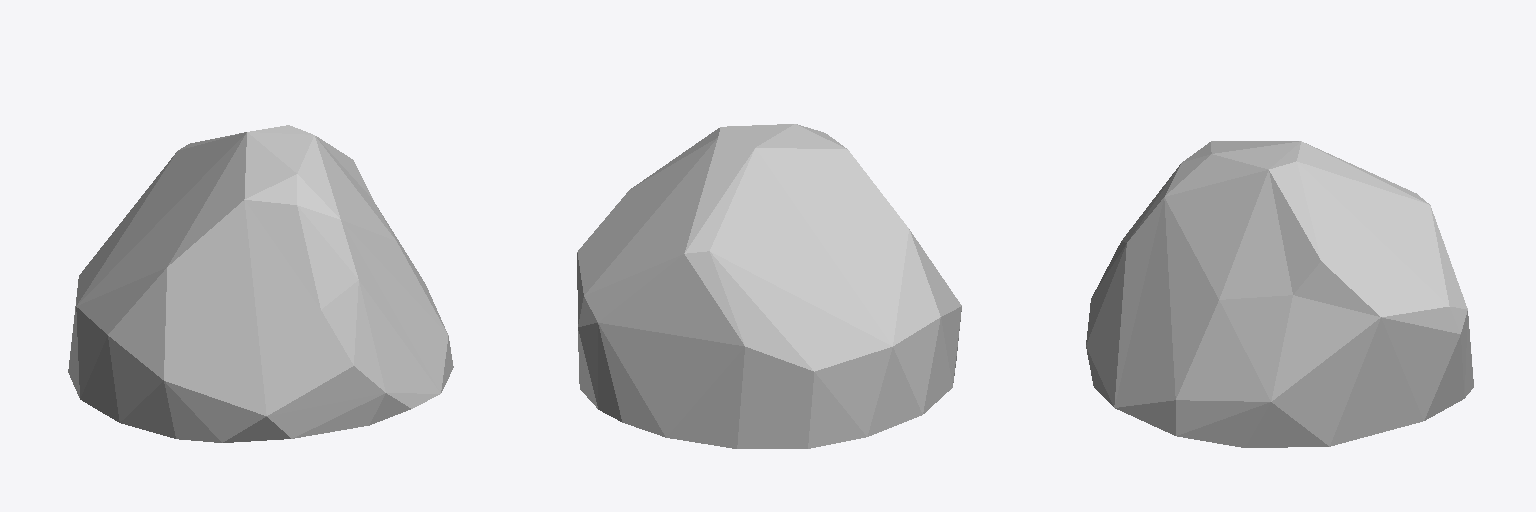
The model's file is stone32.obj.
The picture shows the model from 3 angles: view 1: azimuth 30°, elevation 25°; view 2: azimuth 150°, elevation 25°; view 3: azimuth 270°, elevation 25°; orthographic projection.
Parts seen in each view (by area): view 1: stone3_Group1.002; view 2: stone3_Group1.002; view 3: stone3_Group1.002.
Boxes of the visible parts, x1=… form: stone3_Group1.002: x1=68, y1=125, x2=453, y2=442; stone3_Group1.002: x1=577, y1=124, x2=961, y2=448; stone3_Group1.002: x1=1086, y1=141, x2=1473, y2=447.
Bounding box in the file's own units: 2.73 × 1.82 × 2.77.